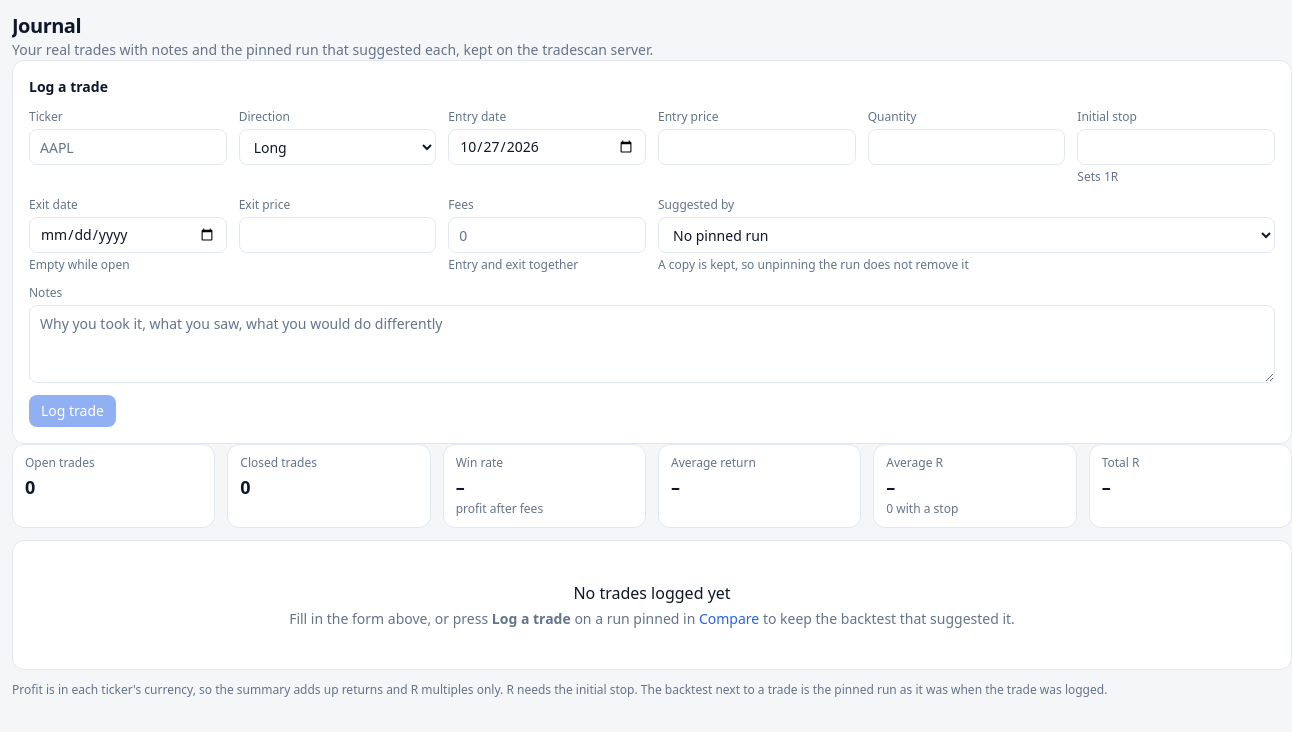
it: JournalPage › logs a trade once the ticker, the entry and the quantity are filled in
Expected: the text "No trades logged yet" is shown, 573,582 -> 731,604
Expected: the button "Log trade" is disabled, 29,395 -> 116,427
Type "aapl" into the field labelled "Ticker" at (128, 147), box 29,129 -> 227,165
Type "2026-03-02" into the date field labelled "Entry date" at (547, 147), box 448,129 -> 646,165
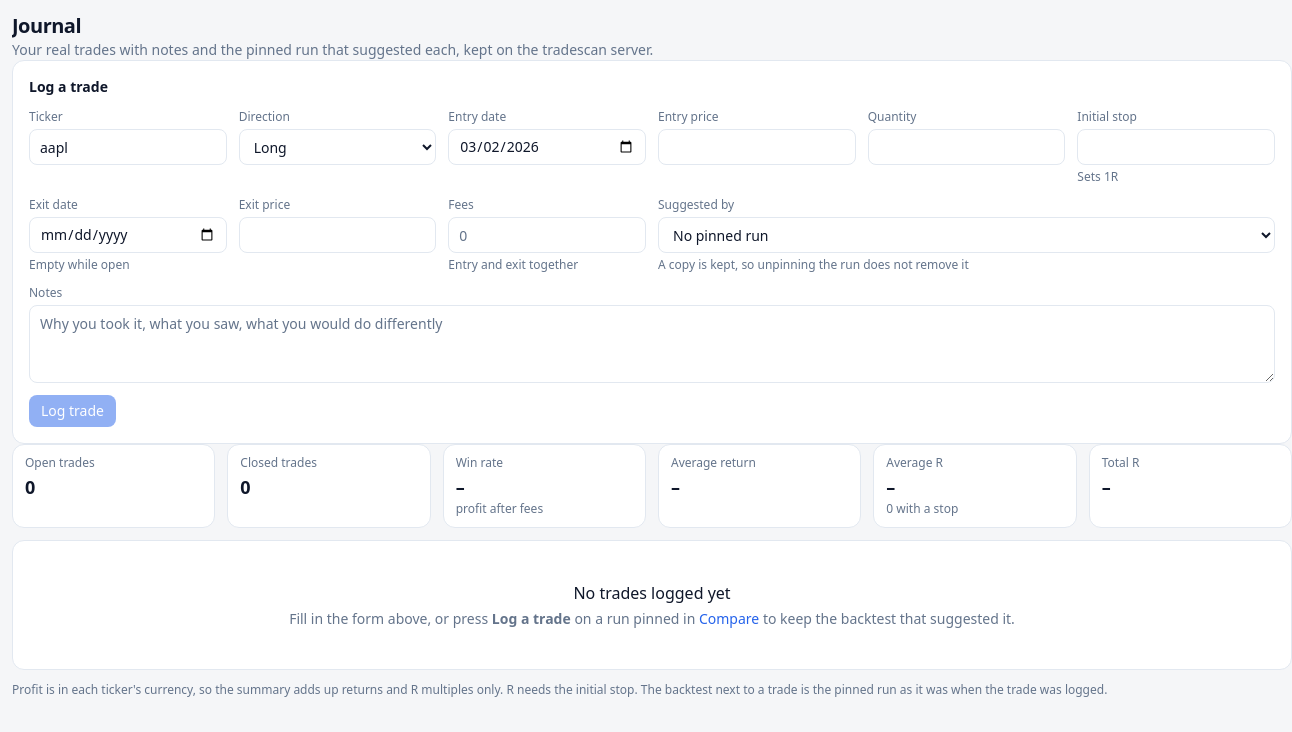
Type "180.5" into the number field labelled "Entry price" at (757, 147), box 658,129 -> 856,165
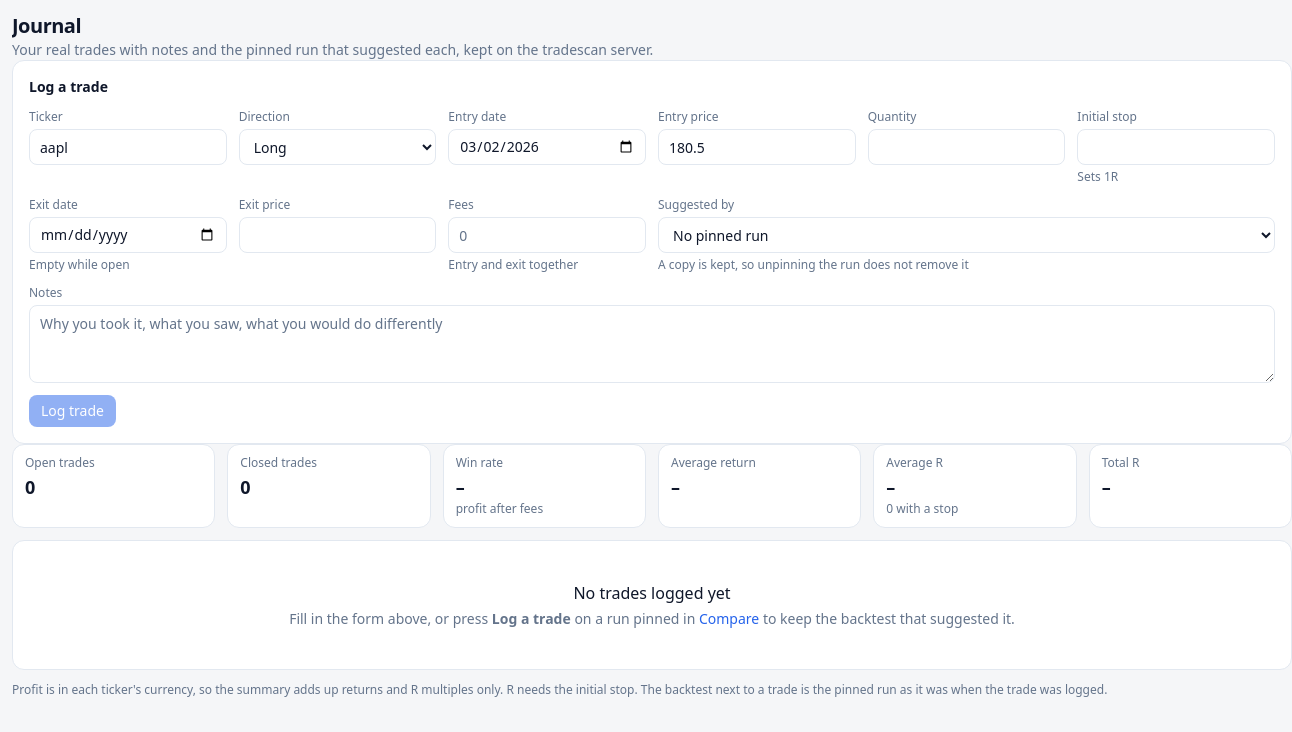
Type "10" into the number field labelled "Quantity" at (967, 147), box 868,129 -> 1065,165
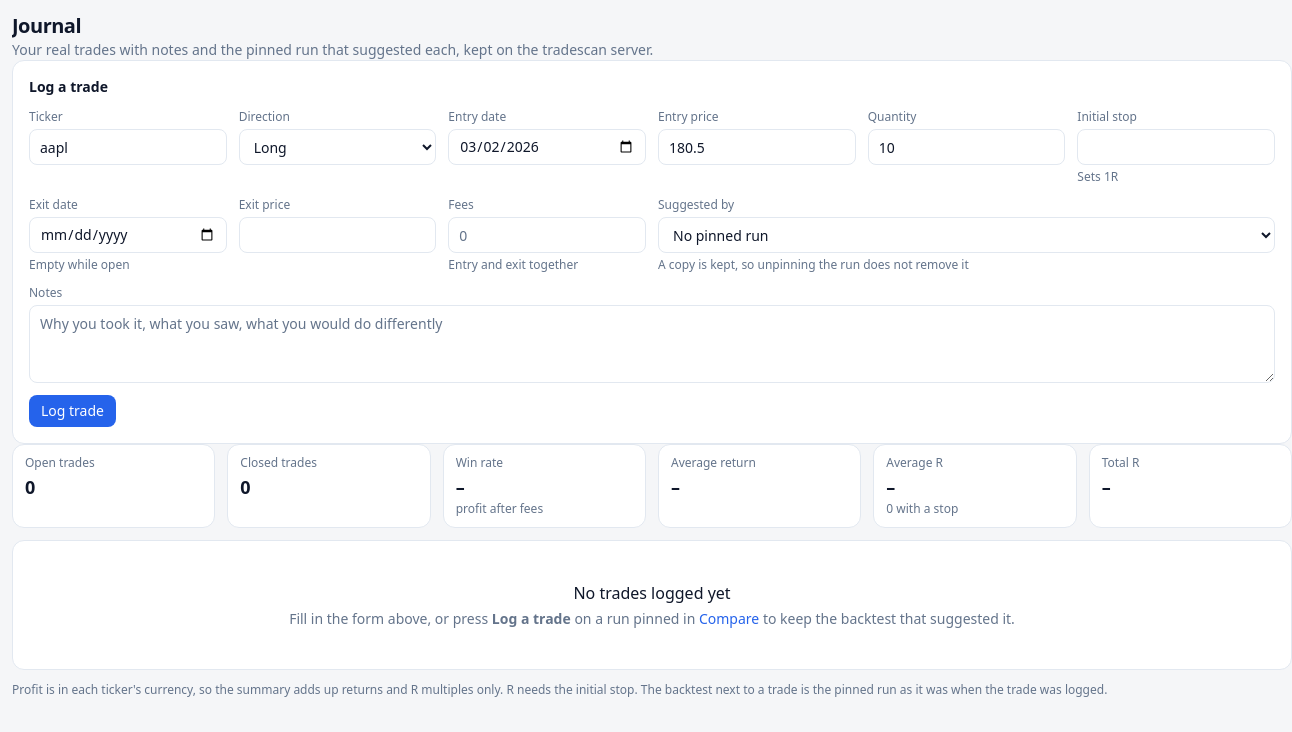
Type "175" into the number field labelled "Initial stop Sets 1R" at (1176, 147), box 1077,129 -> 1275,165
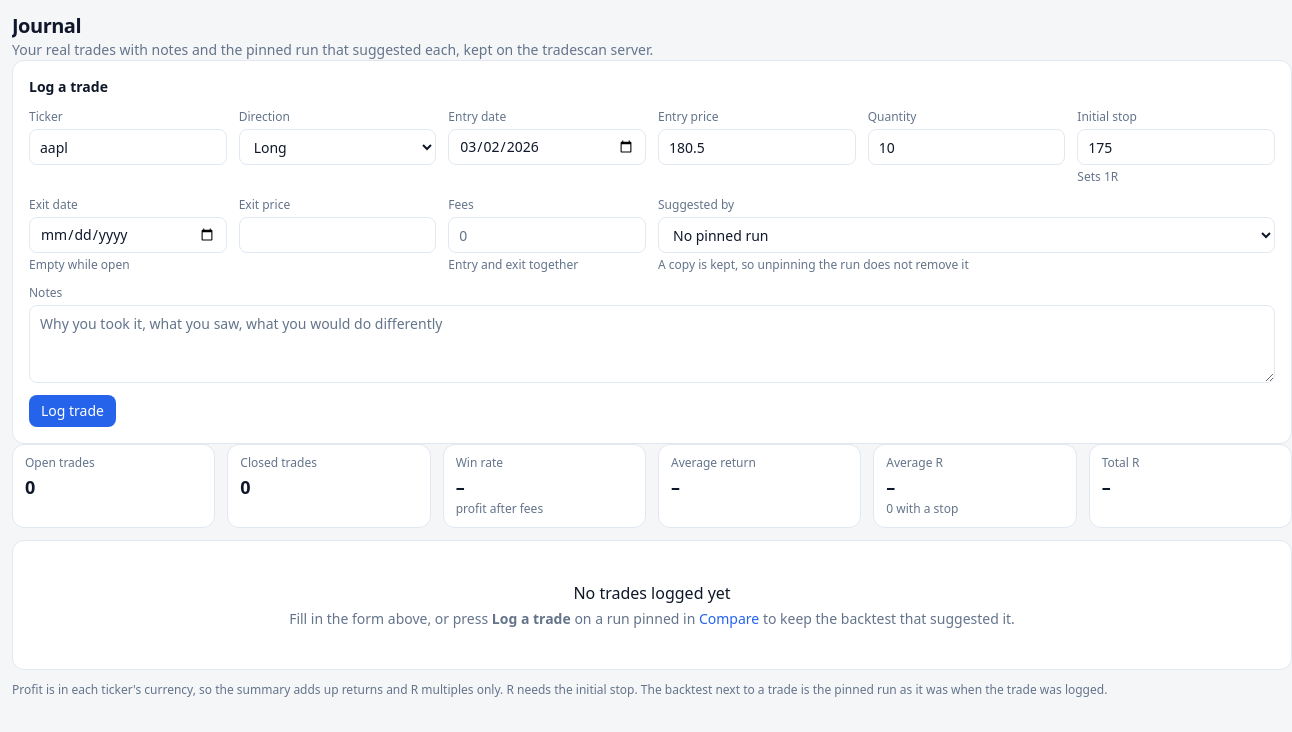
Type "Pullback to the 20-day SMA" into the text box labelled "Notes" at (652, 344), box 29,305 -> 1275,383
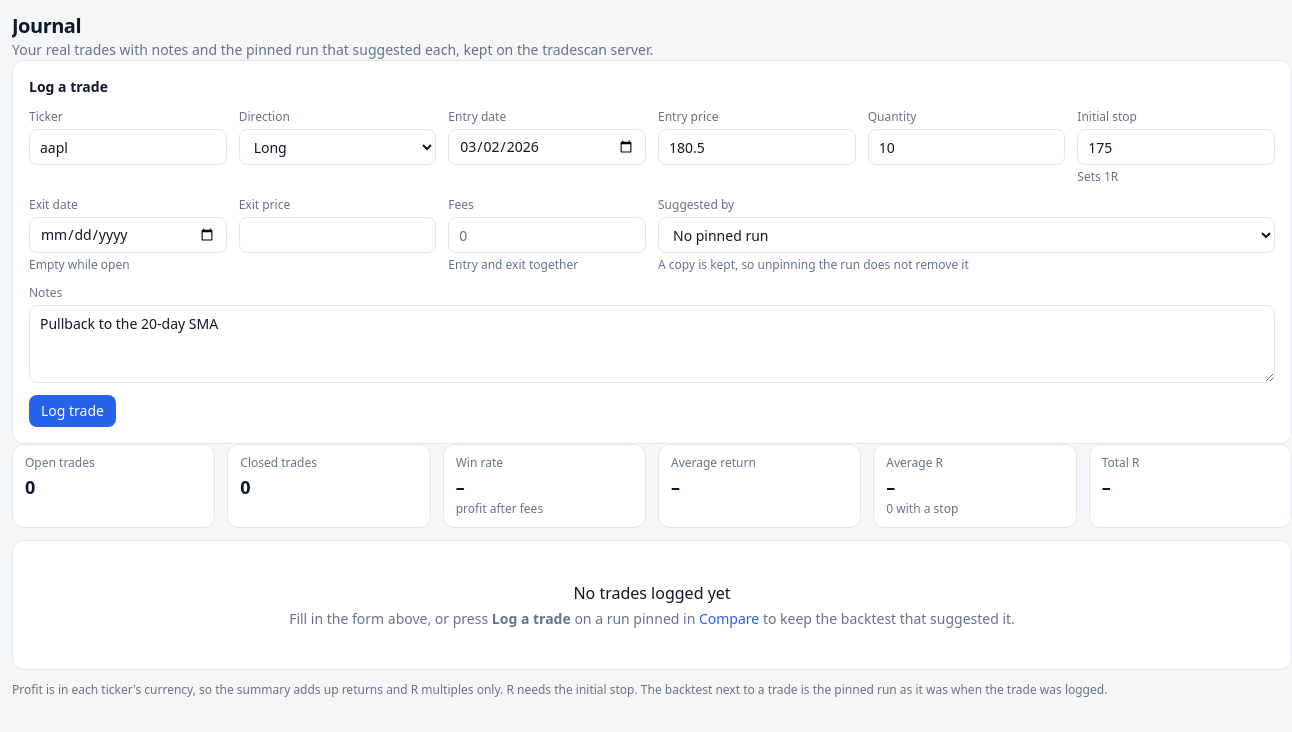
Click the button "Log trade" at (72, 411), box 29,395 -> 116,427
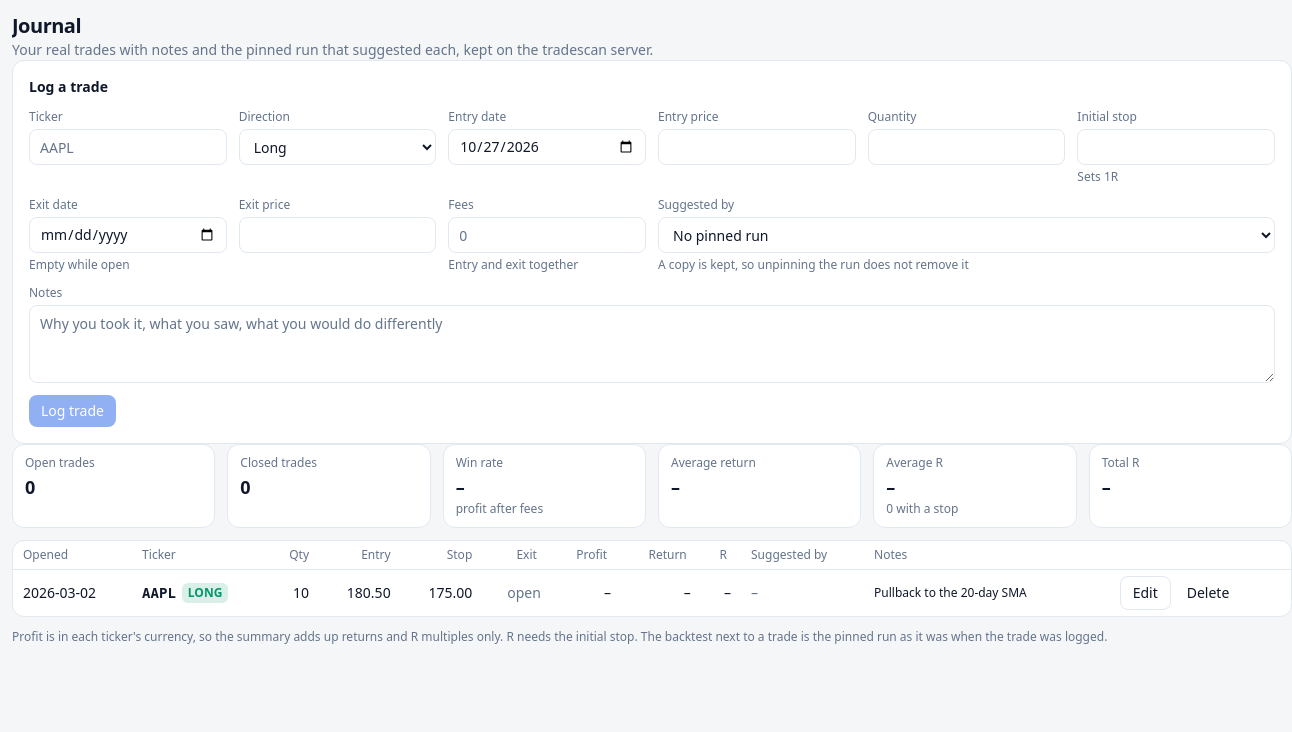
Now the text "AAPL" is shown, box 142,583 -> 176,603
Now the text "open" is shown, box 507,583 -> 541,602
Now the field labelled "Ticker" is empty, box 29,129 -> 227,165
